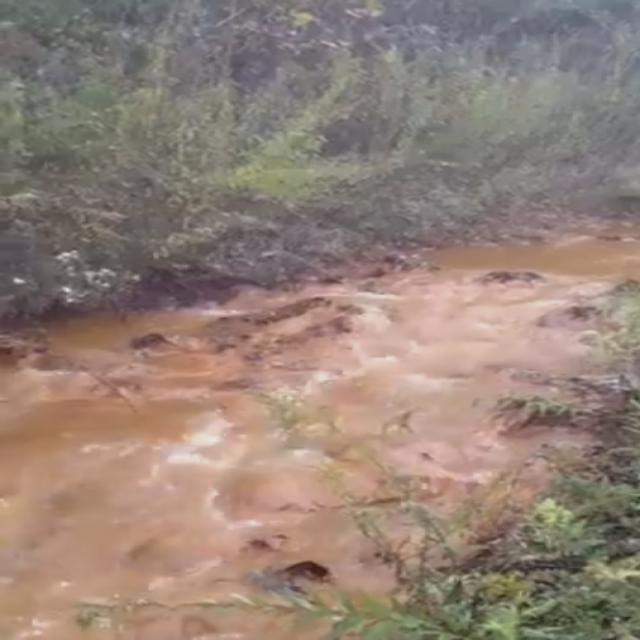yellow_boy: (1, 236, 640, 639)
